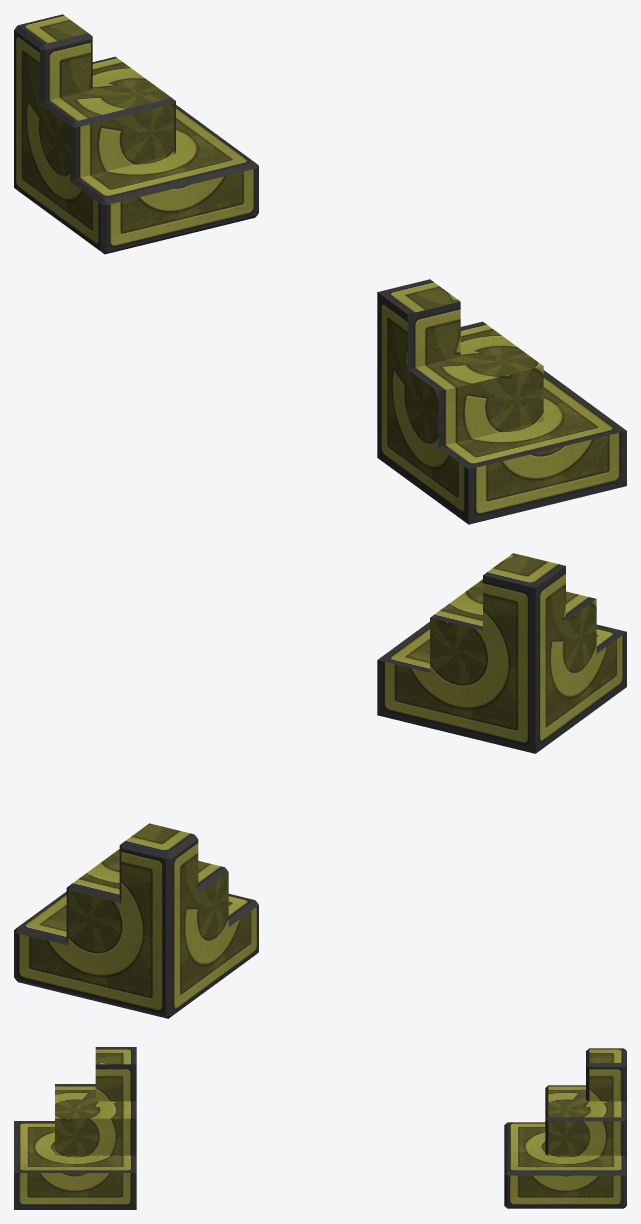
File: step3.outsideCorner.fbx
3 renders of one model, top to bottom at view 1: azimuth 30°, elevation 25°; view 2: azimuth 150°, elevation 25°; view 3: azimuth 270°, elevation 25°, orthographic. The views are drawn at different scales.
Visible parts, largest first — view 1: MESH step3.outsideCorner, MESH step3.outsideCorner.c; view 2: MESH step3.outsideCorner, MESH step3.outsideCorner.c; view 3: MESH step3.outsideCorner, MESH step3.outsideCorner.c.
Part boxes in pixels (bbox=[...]): MESH step3.outsideCorner: bbox=[377, 279, 626, 524]; MESH step3.outsideCorner.c: bbox=[14, 14, 258, 254]; MESH step3.outsideCorner: bbox=[377, 553, 626, 753]; MESH step3.outsideCorner.c: bbox=[14, 823, 258, 1018]; MESH step3.outsideCorner: bbox=[14, 1047, 136, 1209]; MESH step3.outsideCorner.c: bbox=[504, 1048, 626, 1208].
Size of what is drawn, in the model's own units: 100 by 100 by 500.
